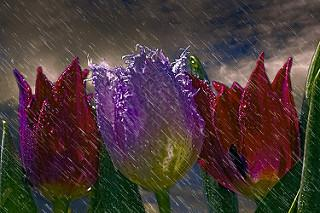tulip: (91, 45, 203, 186), (208, 48, 302, 199), (11, 57, 103, 201)
